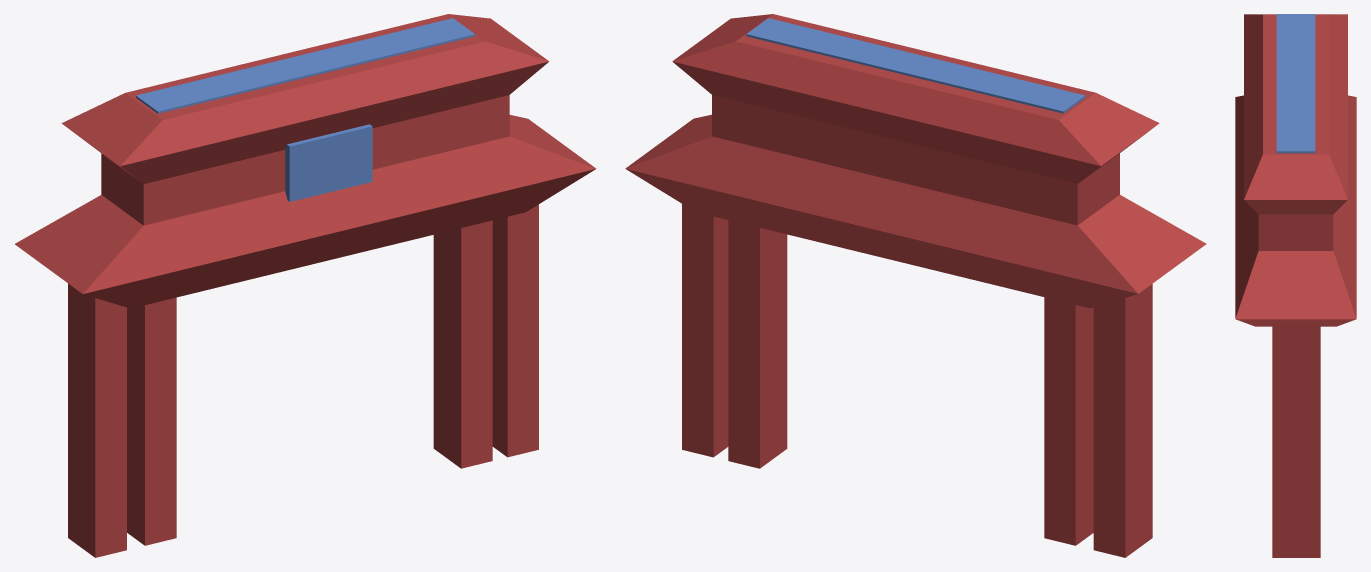
Rendered from 金山寺2.fbx.
The picture shows the model from 3 angles, left to right: view 1: azimuth 30°, elevation 25°; view 2: azimuth 150°, elevation 25°; view 3: azimuth 270°, elevation 25°; orthographic projection. The views are drawn at different scales.
Visible parts, largest first — view 1: 顶, 柱子_2, 柱子, 柱子_1, 柱子_3, 封顶_2, 墙_1, 封顶_1_7, 墙_2; view 2: 顶, 柱子_2, 柱子, 柱子_1, 柱子_3, 封顶_2, 封顶_1_7, 墙_2; view 3: 顶, 柱子_3, 封顶_2, 封顶_1_7.
Part boxes in pixels (x1,y1,x2,y2): 顶: (15,14,596,308); 柱子_2: (68,283,126,557); 柱子: (433,220,492,468); 柱子_1: (127,297,176,545); 柱子_3: (492,204,538,457); 封顶_2: (136,18,474,111); 墙_1: (285,126,372,201); 封顶_1_7: (125,14,485,119); 墙_2: (136,34,474,113); 顶: (625,14,1206,308); 柱子_2: (1093,284,1152,557); 柱子: (728,220,787,468); 柱子_1: (1044,297,1093,545); 柱子_3: (682,204,728,457); 封顶_2: (746,18,1084,111); 封顶_1_7: (736,14,1095,119); 墙_2: (746,34,1085,113); 顶: (1235,14,1356,326); 柱子_3: (1272,324,1320,557); 封顶_2: (1276,14,1315,151); 封顶_1_7: (1263,14,1328,154).
Size of the model in its own units: 65 by 51.84 by 15.
